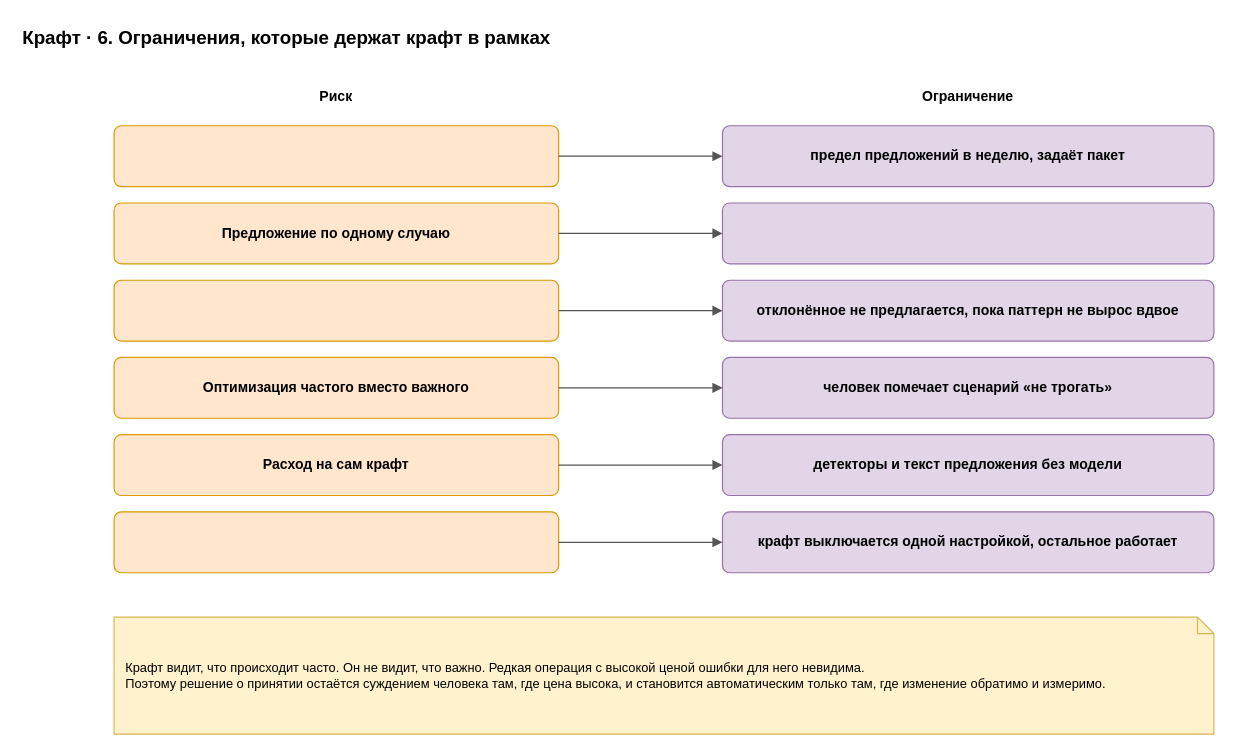
Image size: 1234x755. Some labels were removed from this diagram. The centre of each missing label's shape, as x and y in pixels:
Крафт мешает работе: (x=336, y=542)
Навязчивость: (x=336, y=310)
порог повторов для каждого детектора: (x=967, y=233)
Поток предложений: (x=336, y=156)
